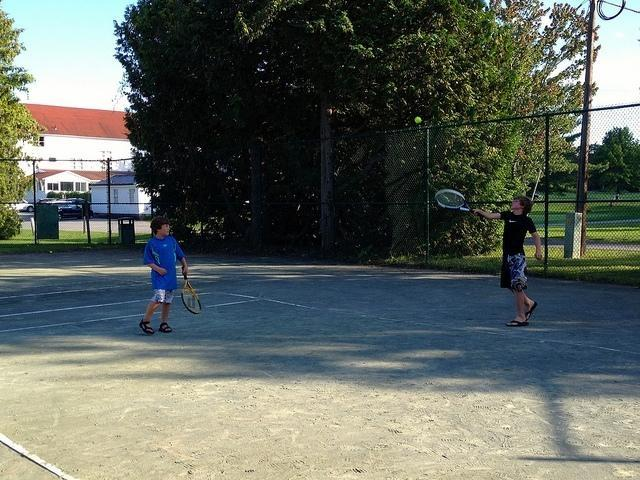car: (58, 204, 92, 220), (8, 199, 34, 212), (36, 199, 59, 206)
